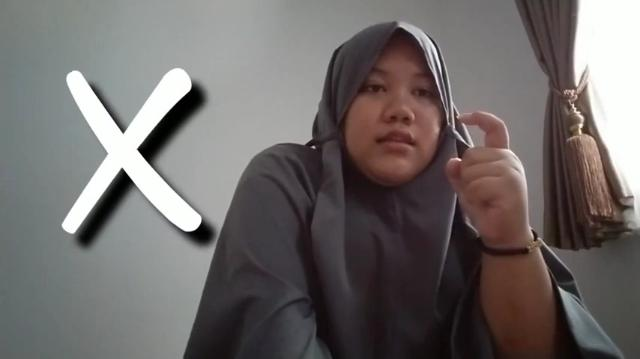X: (442, 105, 536, 243)
